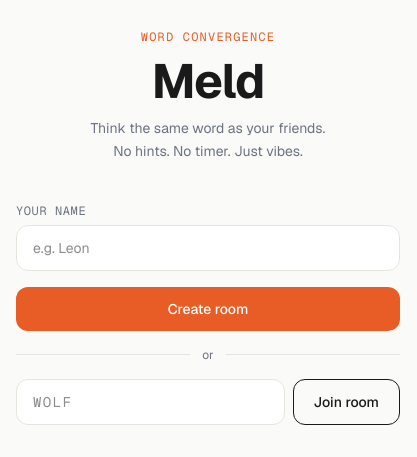
Test: Home › error clearing › clears the error when typing in the name field
Click the button "Create room".
click(208, 309)  # box [16, 287, 400, 331]
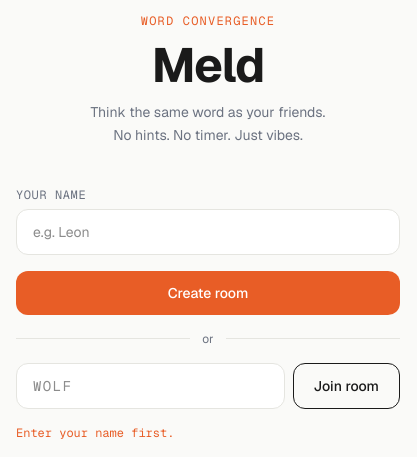
Result: the text "Enter your name first." is shown at [16, 425, 174, 441]
Type "L" into the field with placeholder "e.g. Leon".
click(208, 232); type("L")  # box [16, 209, 400, 255]
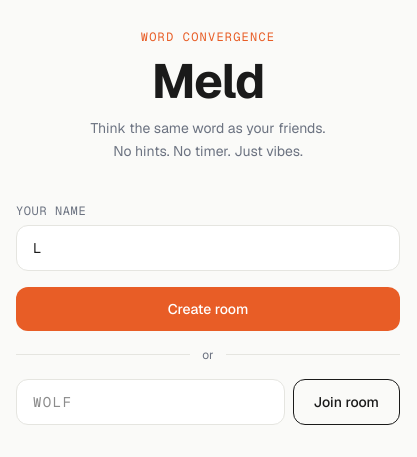
Result: the text "Enter your name first" is gone
